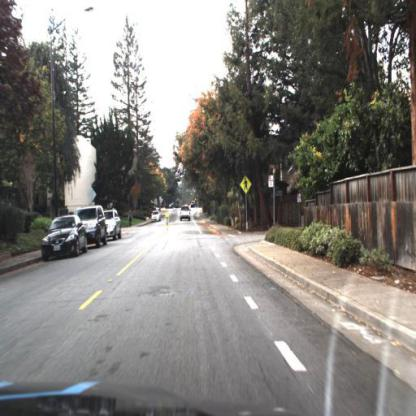car: (42, 214, 87, 262), (87, 204, 108, 248), (104, 201, 123, 245), (181, 202, 193, 224)
pedestrian: (128, 207, 136, 228), (67, 239, 68, 244)
